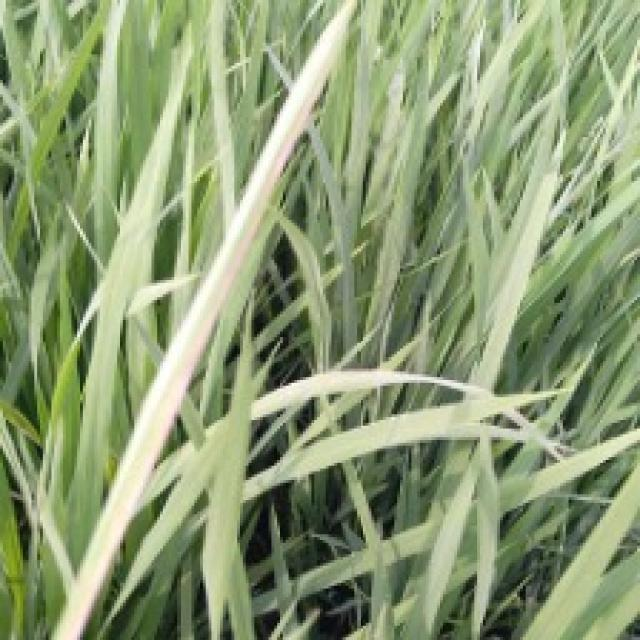Rice___Bacterial_Leaf_Blight: (48, 0, 358, 637)
